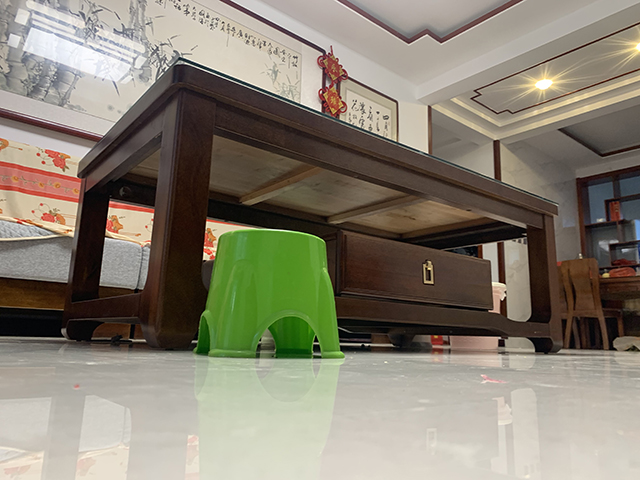sofa: (1, 135, 156, 344)
stool: (190, 228, 347, 362), (561, 258, 626, 351)
table: (62, 55, 565, 354)
trashcan: (448, 280, 506, 351)
